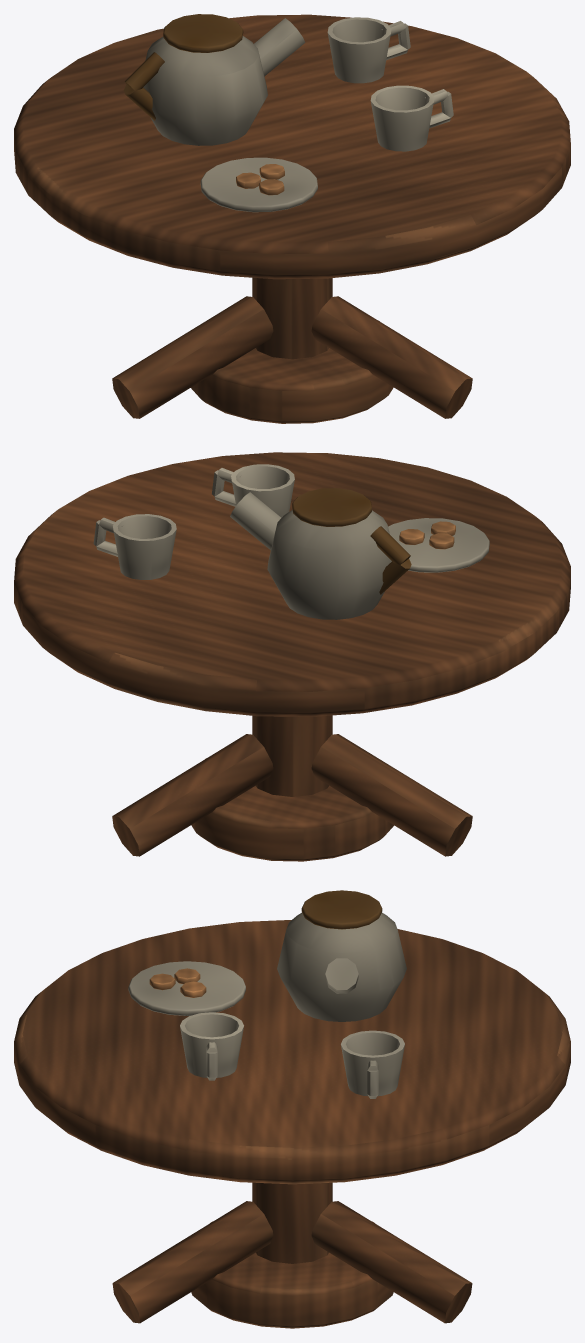
File: Furn_TeaTable_Round.fbx
The picture shows the model from 3 angles, top to bottom: view 1: azimuth 30°, elevation 25°; view 2: azimuth 150°, elevation 25°; view 3: azimuth 270°, elevation 25°; orthographic projection.
Visible parts, largest first — view 1: Furn_TeaTable_Round; view 2: Furn_TeaTable_Round; view 3: Furn_TeaTable_Round.
Boxes of the visible parts, x1,y1,x2,y2 form: Furn_TeaTable_Round: (14,14,570,423); Furn_TeaTable_Round: (14,452,570,861); Furn_TeaTable_Round: (14,890,570,1328).
Bounding box in the file's own units: 0.9 × 0.621 × 0.9.
Materials: 4 (4 with a texture image).
